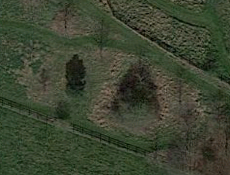tree: (103, 81, 174, 129), (60, 81, 95, 106), (44, 112, 74, 138)
